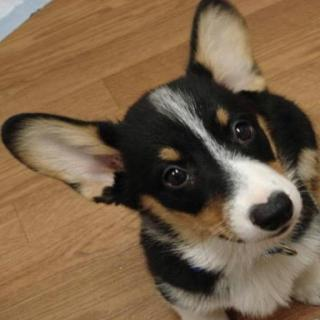dog: (7, 51, 320, 258)
nose: (247, 183, 298, 236)
